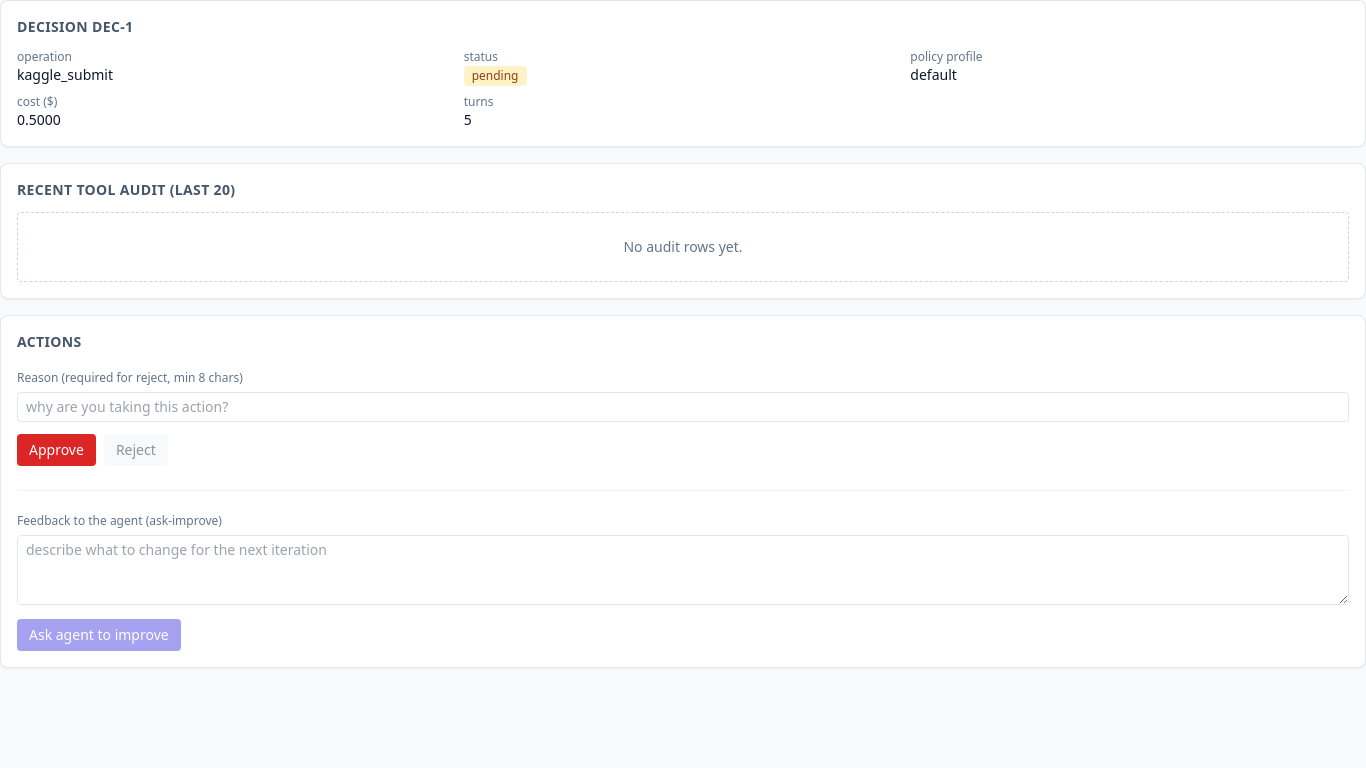
Test case: DecisionGate › disables Reject below 8 chars and enables at 8+
Expected: the button with test id "reject-btn" is disabled, [104,434,168,466]
In the field with placeholder "why are you taking this action?": (683, 407) [17,392,1349,422], type "12345"
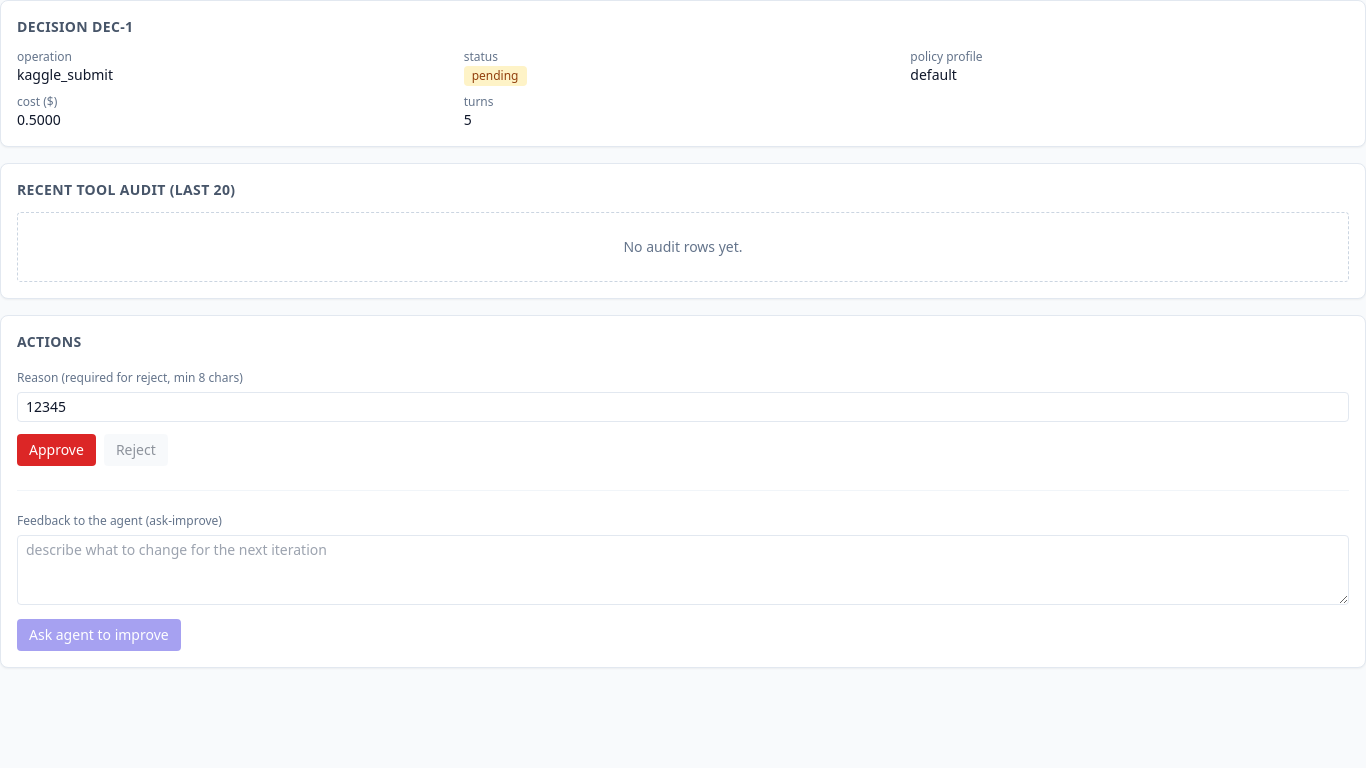
Expected: the button with test id "reject-btn" is disabled, [104,434,168,466]
Replace the text in the field with placeholder "why are you taking this action?" with "1234567890": (683, 407) [17,392,1349,422]
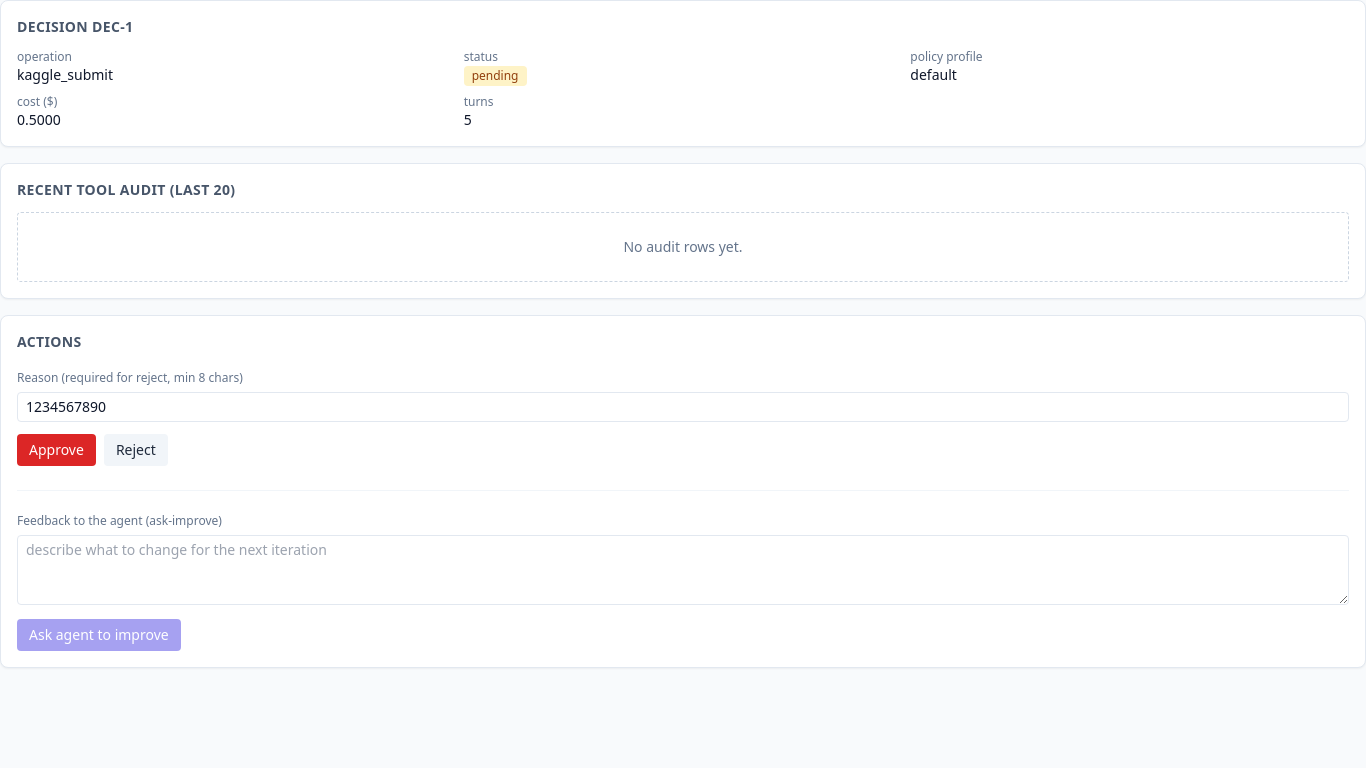
Expected: the button with test id "reject-btn" is enabled, [104,434,168,466]
